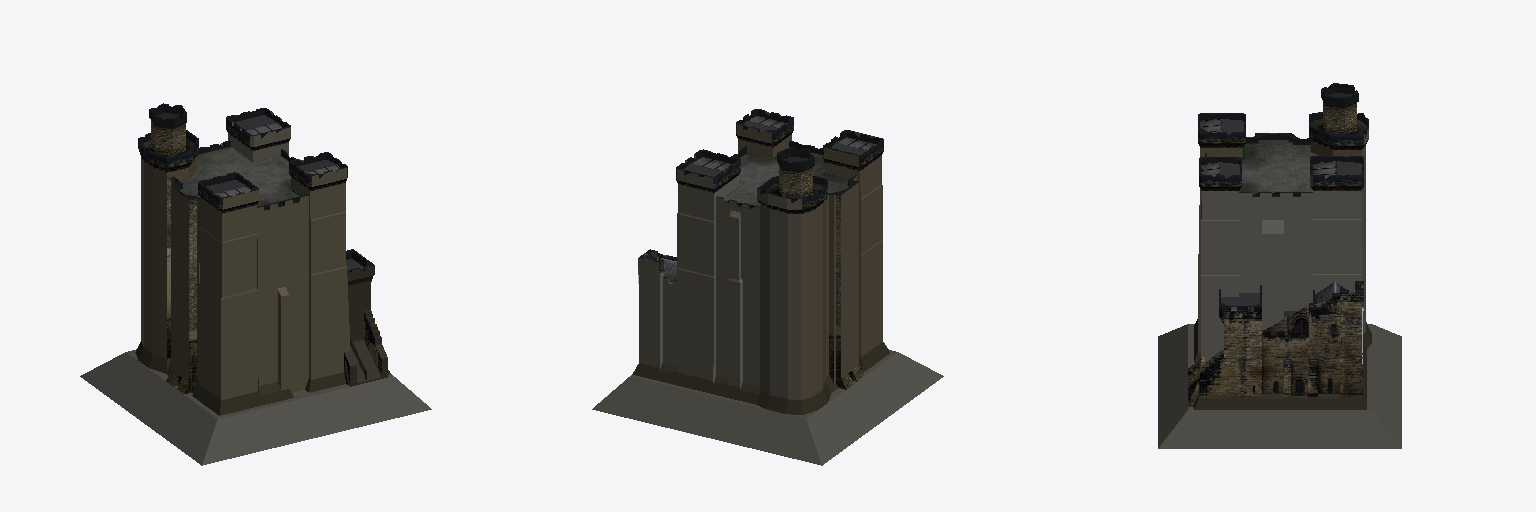
3 renders of one model, left to right at view 1: azimuth 30°, elevation 25°; view 2: azimuth 150°, elevation 25°; view 3: azimuth 270°, elevation 25°, orthographic.
Visible parts, largest first — view 1: Mesh8 keep1 Model, Mesh9 Model, Mesh7 mini_castle1 keep1 Model, Mesh5 lead_roof2 keep1 Model; view 2: Mesh8 keep1 Model, Mesh9 Model, Mesh7 mini_castle1 keep1 Model, Mesh5 lead_roof2 keep1 Model; view 3: Mesh8 keep1 Model, Mesh9 Model, Mesh7 mini_castle1 keep1 Model, Mesh5 lead_roof2 keep1 Model, Mesh6 lead_roof3 keep1 Model.
Boxes of the visible parts, box(x1,y1,x2,y2) form: Mesh8 keep1 Model: box(135, 108, 390, 415); Mesh9 Model: box(80, 349, 431, 465); Mesh7 mini_castle1 keep1 Model: box(149, 103, 186, 155); Mesh5 lead_roof2 keep1 Model: box(235, 115, 282, 134); Mesh8 keep1 Model: box(632, 109, 889, 414); Mesh9 Model: box(592, 350, 943, 465); Mesh7 mini_castle1 keep1 Model: box(777, 147, 814, 197); Mesh5 lead_roof2 keep1 Model: box(683, 157, 731, 176); Mesh8 keep1 Model: box(1188, 112, 1371, 409); Mesh9 Model: box(1158, 324, 1401, 448); Mesh7 mini_castle1 keep1 Model: box(1321, 83, 1358, 133); Mesh5 lead_roof2 keep1 Model: box(1312, 161, 1361, 178); Mesh6 lead_roof3 keep1 Model: box(1200, 119, 1243, 134).
Bounding box in the file's own units: 30981 × 35150 × 28442.
Materials: 39 (16 with a texture image).